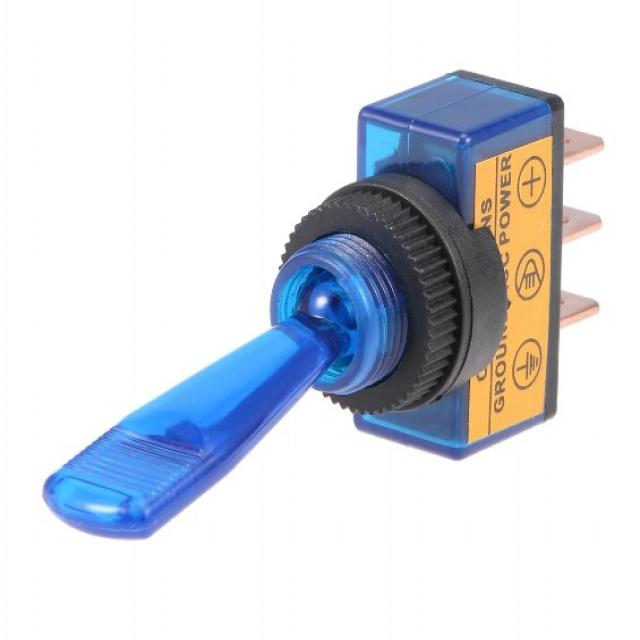toggle switch: (44, 172, 508, 541)
